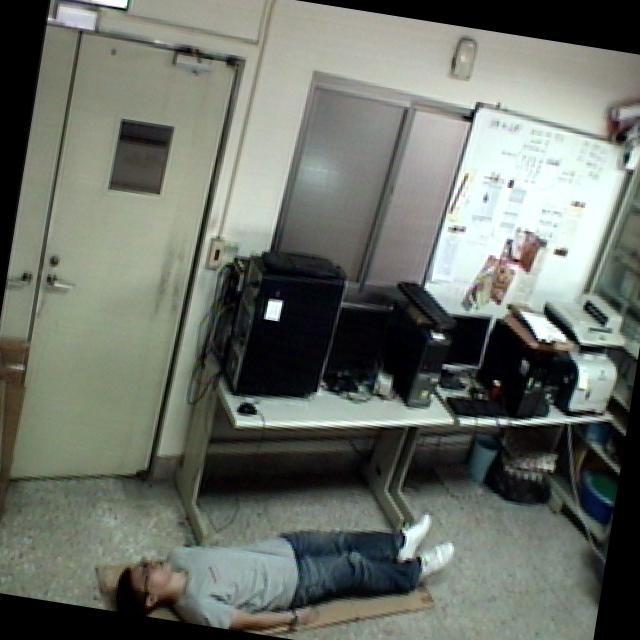lie: (106, 460, 468, 640)
